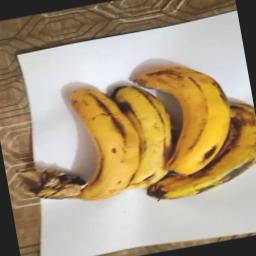Banana Unripe: (126, 48, 250, 194), (48, 73, 154, 213), (98, 67, 193, 204)
